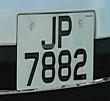2: (72, 47, 90, 82)
7: (22, 49, 40, 89)
8: (39, 49, 57, 87), (56, 48, 74, 85)
J: (38, 14, 58, 53)
P: (56, 12, 74, 51)
